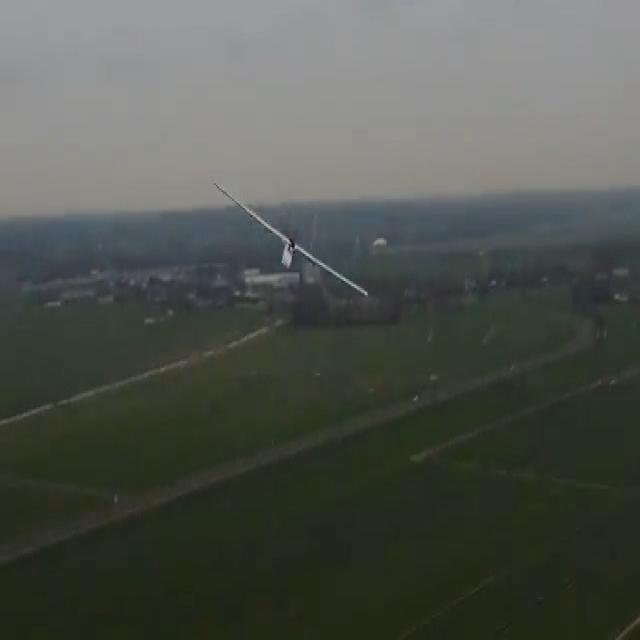iha: (216, 177, 369, 309)
